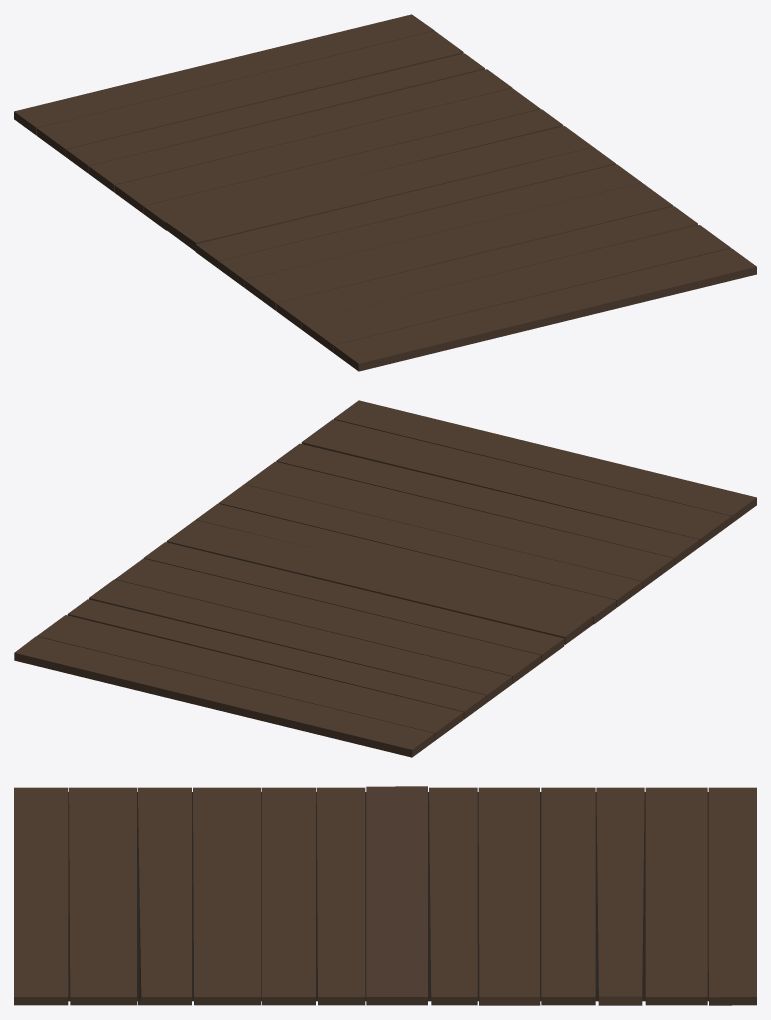
Rendered from Floor_3A_4mx6m.fbx.
The picture shows the model from 3 angles, top to bottom: view 1: azimuth 30°, elevation 25°; view 2: azimuth 150°, elevation 25°; view 3: azimuth 270°, elevation 25°; orthographic projection. The views are drawn at different scales.
Visible parts, largest first — view 1: pCube2408; view 2: pCube2408; view 3: pCube2408.
Boxes of the visible parts, x1,y1,x2,y2 form: pCube2408: (14, 14, 756, 371); pCube2408: (14, 400, 756, 757); pCube2408: (14, 786, 756, 1005).
Bounding box in the file's own units: 401 × 8.62 × 600.
